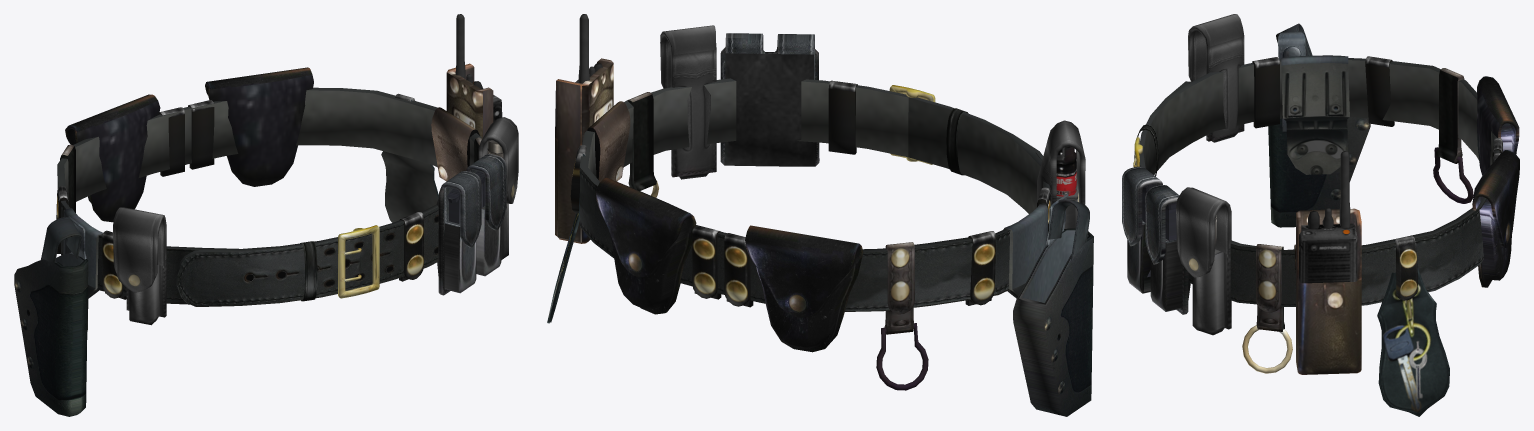
Rendered from police_sam_browne_gun_belt.glb.
3 views of the same model, side by side, from view 1: azimuth 30°, elevation 25°; view 2: azimuth 150°, elevation 25°; view 3: azimuth 270°, elevation 25° (orthographic). The views are drawn at different scales.
Parts seen in each view (by area): view 1: Object_3, Object_4, Object_5, Object_8, Object_2, Object_7, Object_6; view 2: Object_3, Object_4, Object_5, Object_8, Object_2, Object_7, Object_6; view 3: Object_3, Object_5, Object_2, Object_7, Object_8, Object_4, Object_6.
Boxes of the visible parts, x1,y1,x2,y2 form: Object_3: [56, 87, 482, 306]; Object_4: [65, 67, 313, 222]; Object_5: [14, 208, 102, 416]; Object_8: [437, 154, 506, 295]; Object_2: [113, 117, 518, 325]; Object_7: [431, 63, 493, 181]; Object_6: [455, 14, 502, 121]; Object_3: [547, 78, 1050, 390]; Object_4: [595, 177, 863, 352]; Object_5: [1003, 194, 1093, 416]; Object_8: [720, 33, 819, 166]; Object_2: [660, 25, 1085, 228]; Object_7: [555, 58, 630, 243]; Object_6: [575, 14, 602, 83]; Object_3: [1133, 56, 1502, 416]; Object_5: [1268, 23, 1370, 227]; Object_2: [1176, 14, 1244, 335]; Object_7: [1294, 208, 1361, 374]; Object_8: [1122, 166, 1190, 314]; Object_4: [1472, 76, 1519, 287]; Object_6: [1299, 151, 1357, 283].
Size of the model in its own units: 0.4242 by 0.2434 by 0.3075.
Materials: 7 (7 with a texture image).
